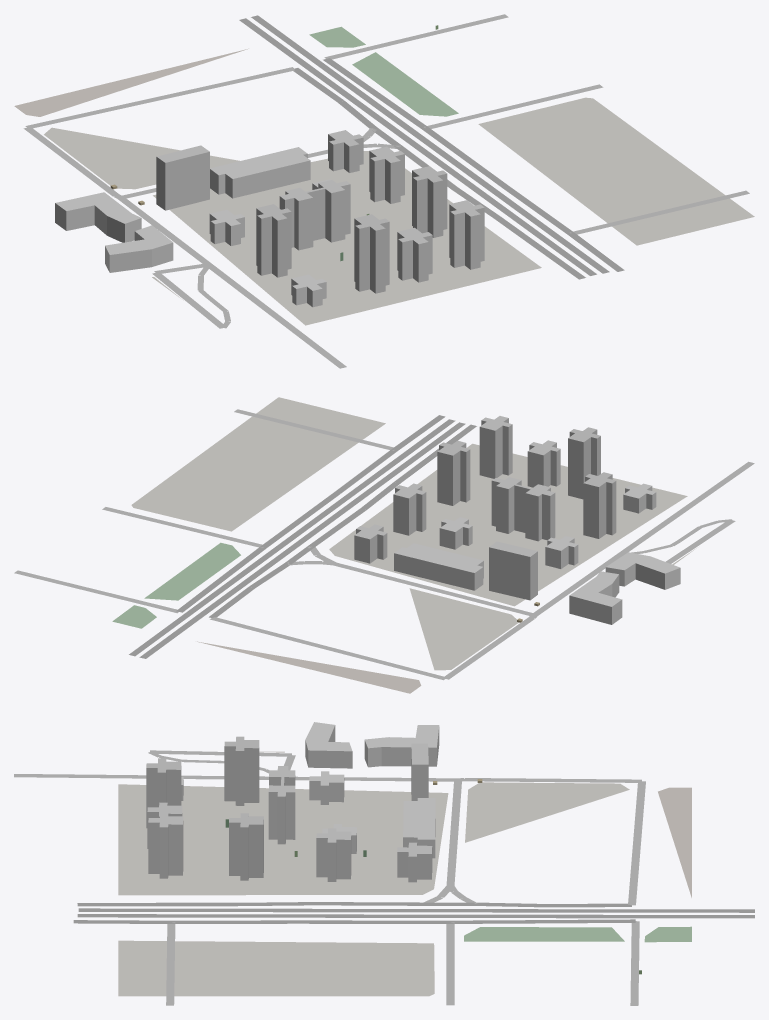
3 renders of one model, top to bottom at view 1: azimuth 30°, elevation 25°; view 2: azimuth 150°, elevation 25°; view 3: azimuth 270°, elevation 25°, orthographic. The views are drawn at different scales.
Size of the model in its own units: 546 by 59.65 by 646.
